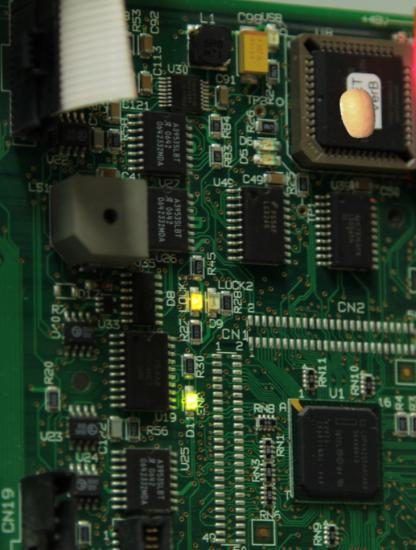Kumquats: (333, 88, 384, 139)
